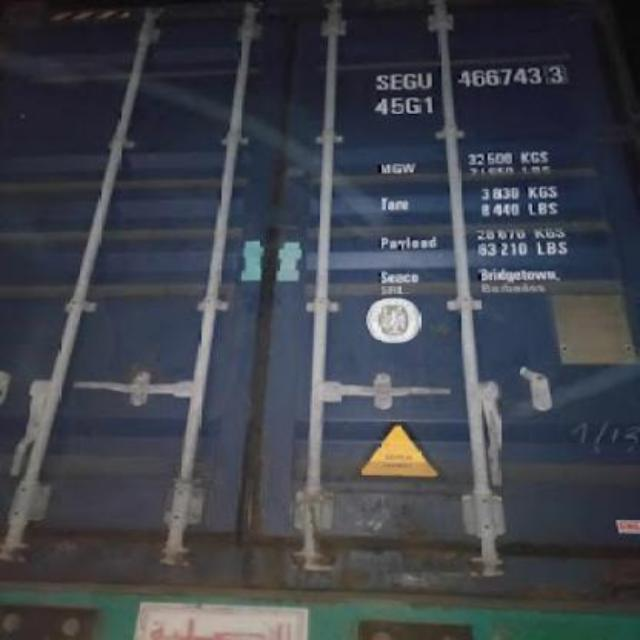3: (544, 63, 570, 87), (524, 58, 544, 86)
4: (514, 60, 528, 90), (456, 66, 469, 88)
6: (484, 61, 498, 93), (472, 64, 484, 92)
7: (496, 59, 512, 91)
E: (391, 65, 404, 91)
G: (404, 66, 418, 94)
S: (376, 69, 392, 95)
U: (418, 66, 434, 92)
